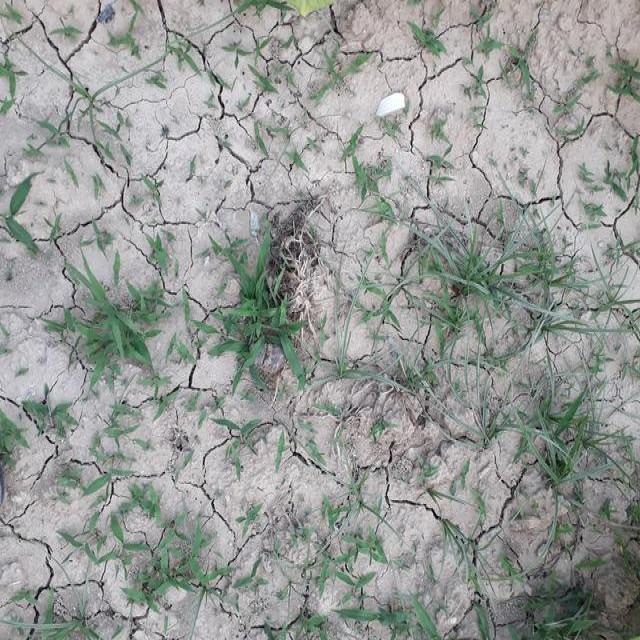weed: (413, 222, 554, 346), (79, 475, 204, 612), (499, 395, 639, 512), (64, 252, 159, 393), (210, 258, 294, 382)
